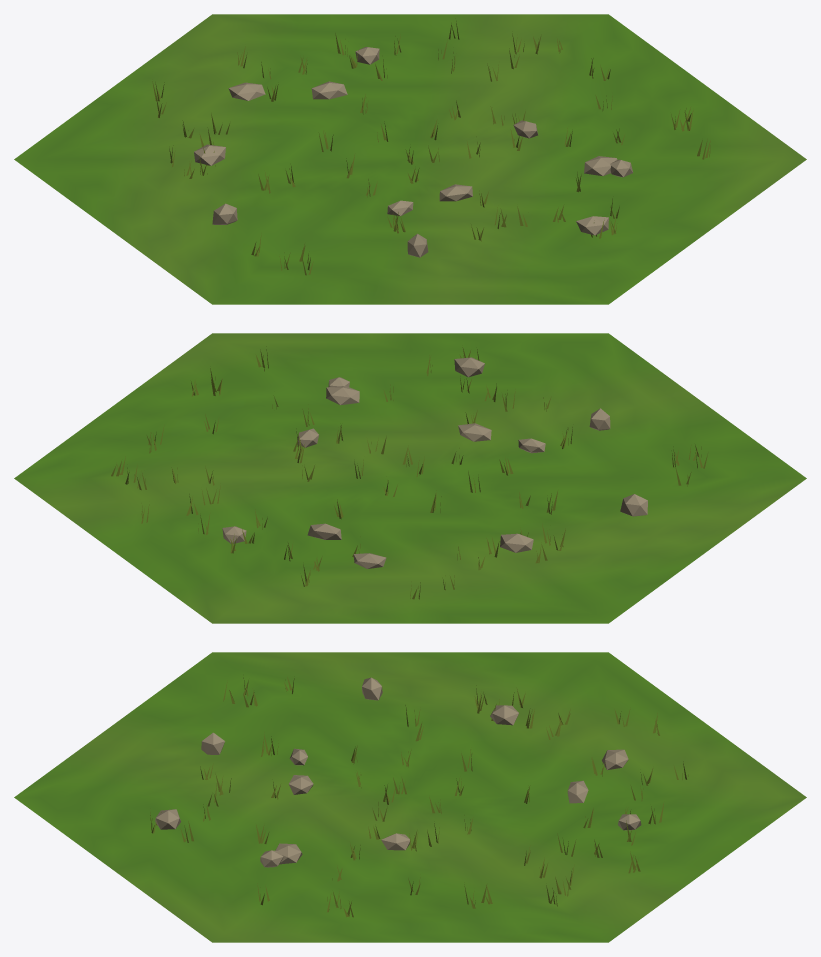
Rendered from SM_Terreno_Llanura_Revision.fbx.
The picture shows the model from 3 angles, top to bottom: view 1: azimuth 30°, elevation 25°; view 2: azimuth 150°, elevation 25°; view 3: azimuth 270°, elevation 25°; orthographic projection.
Visible parts, largest first — view 1: SM_Terreno_Llanura_Revision; view 2: SM_Terreno_Llanura_Revision; view 3: SM_Terreno_Llanura_Revision.
Part boxes in pixels (x1,y1,x2,y2): SM_Terreno_Llanura_Revision: [14, 14, 806, 304]; SM_Terreno_Llanura_Revision: [14, 333, 806, 623]; SM_Terreno_Llanura_Revision: [14, 652, 806, 942].
Bounding box in the file's own units: 173 × 8.06 × 200.
